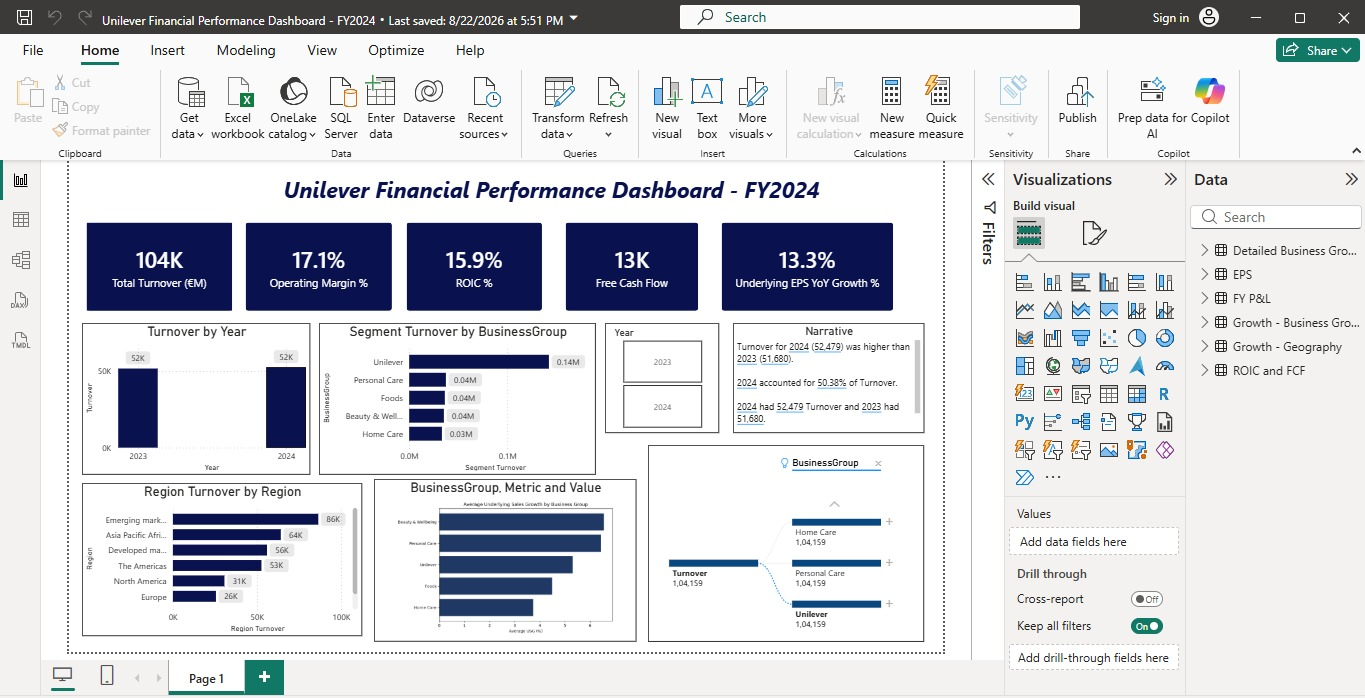

Layout of this report page (visuals, bound fields, positions):
{"tool":"powerbi","page":{"name":"Page 1","canvas":[1280,720],"ordinal":0},"visuals":[{"type":"textbox","box":[308.8,16.1,802,58.5],"z":0},{"type":"cardVisual","fields":{"Data":["FY P&L.Turnover"]},"box":[8.8,74.6,247.3,163.9],"z":1000},{"type":"cardVisual","fields":{"Data":["FY P&L.Operating Margin %"]},"box":[241.5,74.6,248.8,163.9],"z":2000},{"type":"cardVisual","fields":{"Data":["ROIC and FCF.ROIC %"]},"box":[477.1,74.6,232.7,163.9],"z":3000},{"type":"cardVisual","fields":{"Data":["ROIC and FCF.Free Cash Flow"]},"box":[709.8,74.6,228.3,163.9],"z":4000},{"type":"cardVisual","fields":{"Data":["EPS.Underlying EPS YoY Growth %"]},"box":[938,74.6,285.4,163.9],"z":5000},{"type":"clusteredColumnChart","fields":{"Category":["FY P&L.Year"],"Y":["FY P&L.Turnover"]},"box":[19,238.5,333.7,222.4],"z":6000},{"type":"barChart","fields":{"Category":["Growth - Business Group.BusinessGroup"],"Y":["Growth - Business Group.Segment Turnover"]},"box":[365.9,238.5,405.4,222.4],"z":7000},{"type":"barChart","fields":{"Category":["Growth - Geography.Region"],"Y":["Growth - Geography.Region Turnover"]},"box":[19,472.7,409.8,223.9],"z":8000},{"type":"pythonVisual","fields":{"Values":["Growth - Business Group.BusinessGroup","Growth - Business Group.Metric","Growth - Business Group.Value"]},"box":[446.3,467.1,383.8,238],"z":9000},{"type":"decompositionTreeVisual","fields":{"Analyze":["FY P&L.Turnover"],"ExplainBy":["Growth - Business Group.BusinessGroup","Growth - Geography.Region","FY P&L.Year"]},"box":[847.3,417.1,403.9,288.3],"z":10000},{"type":"textbox","title":"Narrative","box":[971.7,238.5,279.5,161],"z":11000},{"type":"slicer","fields":{"Values":["FY P&L.Year"]},"box":[784.4,238.5,166.8,161],"z":12000}]}

Visuals, with their boxes on the page's 1280x720 design canvas (x1, y1, x2, y2). These are canvas units, not pixel positions in the 1365x698 screenshot, which may show the page scaled, cropped or inside an application window:
textbox: 309,16,1111,75
cardVisual - FY P&L.Turnover: 9,75,256,238
cardVisual - FY P&L.Operating Margin %: 242,75,490,238
cardVisual - ROIC and FCF.ROIC %: 477,75,710,238
cardVisual - ROIC and FCF.Free Cash Flow: 710,75,938,238
cardVisual - EPS.Underlying EPS YoY Growth %: 938,75,1223,238
clusteredColumnChart - FY P&L.Year x FY P&L.Turnover: 19,238,353,461
barChart - Growth - Business Group.BusinessGroup x Growth - Business Group.Segment Turnover: 366,238,771,461
barChart - Growth - Geography.Region x Growth - Geography.Region Turnover: 19,473,429,697
pythonVisual - Growth - Business Group.BusinessGroup x Growth - Business Group.Metric: 446,467,830,705
decompositionTreeVisual - FY P&L.Turnover x Growth - Business Group.BusinessGroup: 847,417,1251,705
"Narrative" textbox: 972,238,1251,400
slicer - FY P&L.Year: 784,238,951,400
